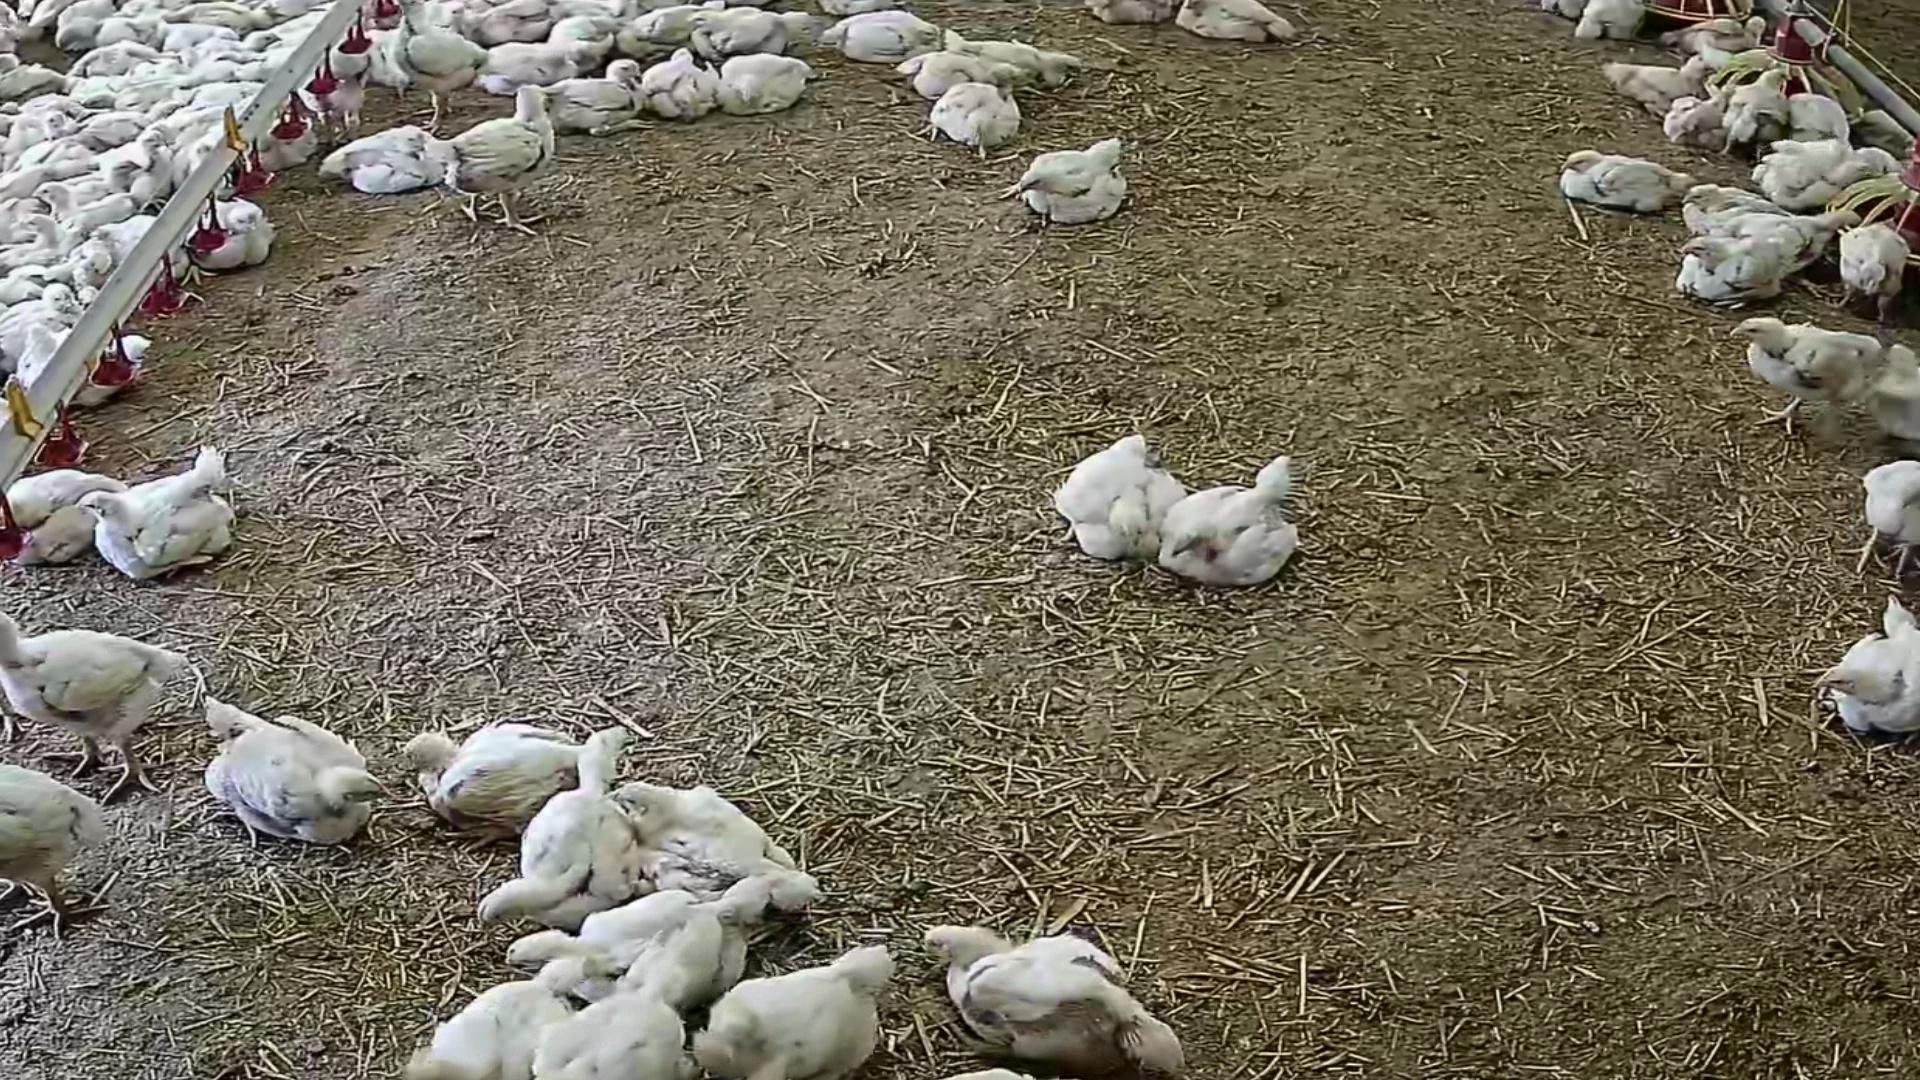poussin: (930, 897, 1230, 1080), (621, 756, 827, 913), (1018, 411, 1185, 596), (0, 595, 200, 746), (498, 717, 650, 915), (199, 699, 381, 857), (1146, 443, 1338, 592), (0, 746, 131, 964), (711, 957, 934, 1080), (415, 702, 597, 833), (541, 938, 695, 1080), (96, 465, 269, 589), (1726, 303, 1880, 440), (418, 948, 587, 1063), (1796, 600, 1920, 736), (448, 94, 567, 228), (543, 887, 703, 985), (1809, 455, 1920, 579), (1025, 148, 1156, 245), (396, 0, 491, 132), (5, 472, 135, 567), (1536, 141, 1687, 215), (1763, 136, 1894, 218), (1713, 198, 1854, 269), (334, 113, 447, 198), (543, 62, 640, 145), (967, 26, 1097, 84), (1669, 235, 1772, 307), (686, 3, 808, 63), (1838, 224, 1916, 318), (828, 8, 943, 69), (1722, 63, 1792, 160), (200, 195, 282, 277), (1610, 47, 1710, 113), (1861, 339, 1920, 450), (911, 44, 1019, 102), (930, 84, 1022, 150), (1162, 0, 1288, 47), (703, 58, 820, 108), (1665, 11, 1766, 67), (116, 132, 189, 203), (1, 286, 80, 351), (641, 46, 707, 123), (1788, 76, 1858, 148), (477, 40, 572, 88), (1689, 173, 1776, 223), (37, 181, 140, 223), (463, 3, 551, 45), (620, 5, 692, 55), (1072, 0, 1178, 34), (1669, 95, 1730, 154), (1567, 0, 1654, 40), (551, 16, 622, 59), (67, 158, 150, 195), (12, 216, 74, 256), (1522, 0, 1578, 26)
